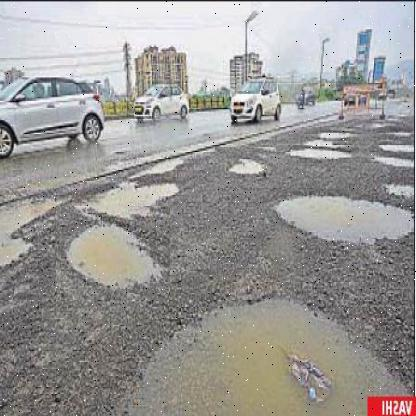pothole_water: (55, 206, 170, 301), (214, 147, 276, 185)
